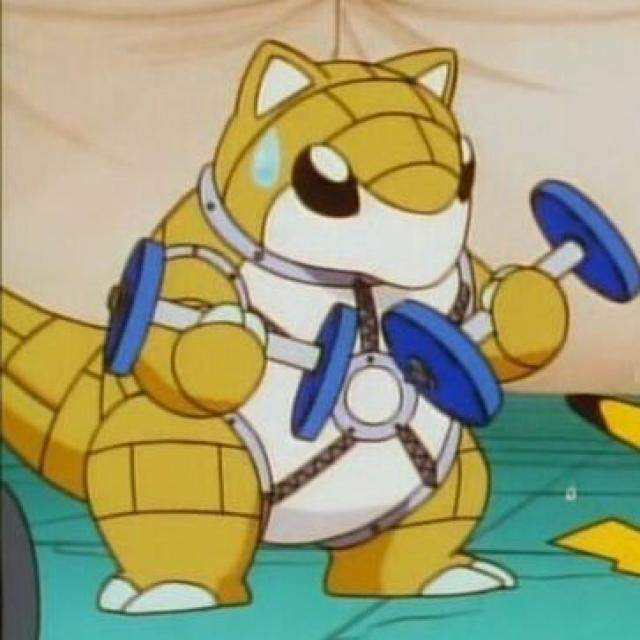Sandshrew: (0, 41, 559, 609)
